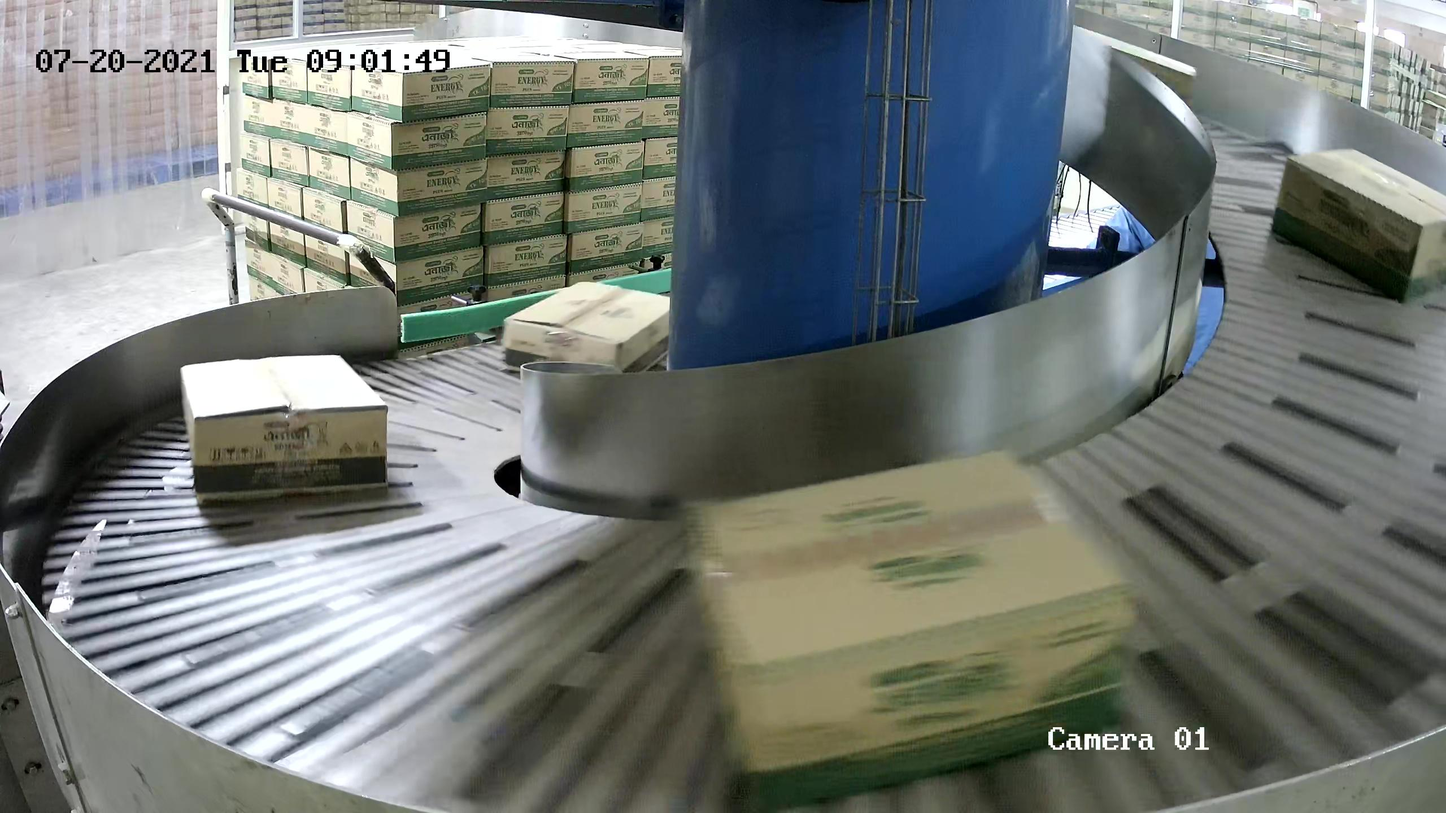Box: (689, 447, 1132, 813), (180, 355, 390, 503), (1268, 147, 1446, 302), (502, 282, 687, 385)
